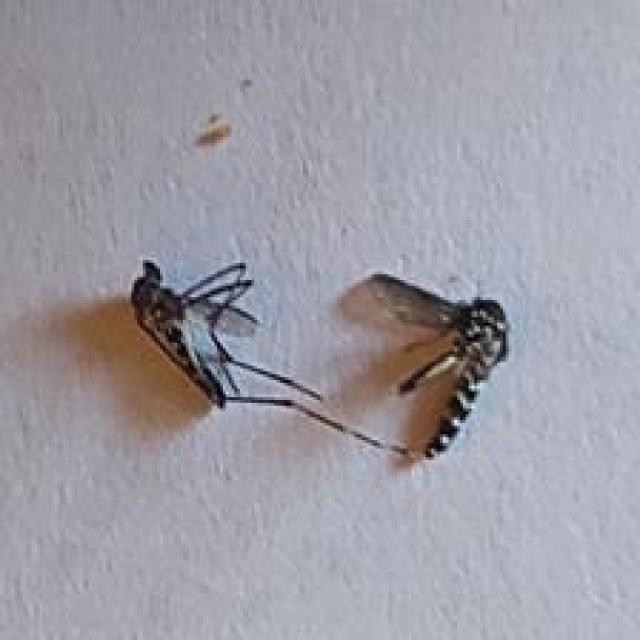Aedes albopictus: (128, 257, 412, 460)
